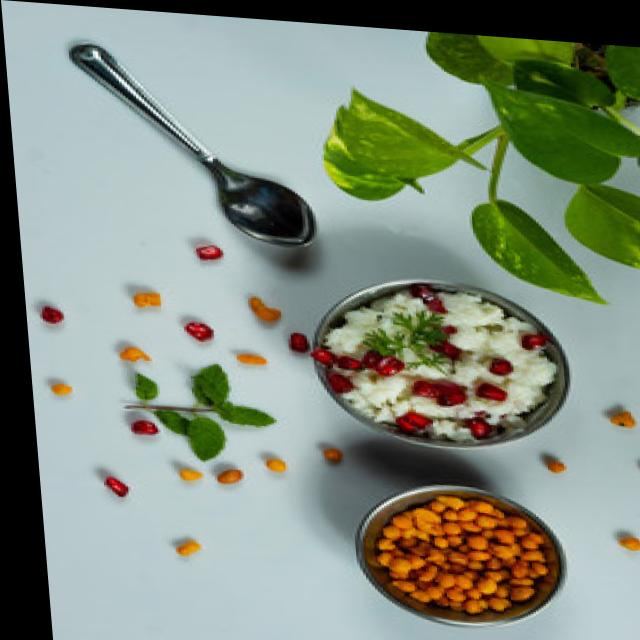CURD RICE: (316, 289, 562, 443)
SUNDAL: (376, 493, 546, 616)
